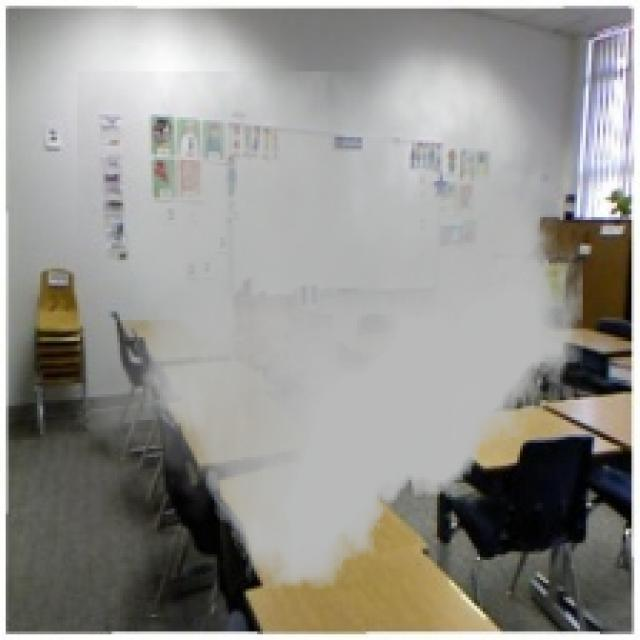Smoke: (77, 71, 592, 588)
